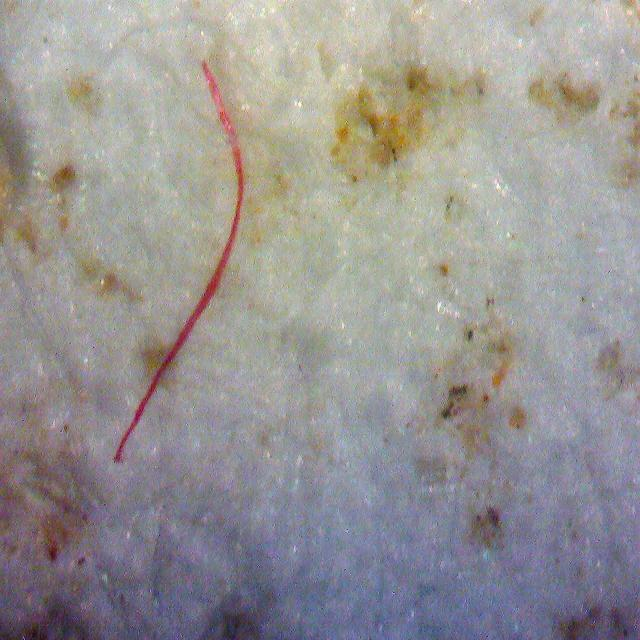microplastic: (115, 58, 244, 462)
